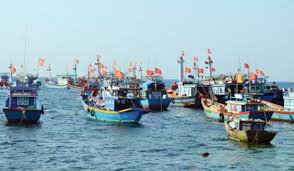tau_dansu: (76, 79, 148, 126), (204, 63, 279, 105), (218, 109, 283, 146), (2, 80, 50, 129), (165, 66, 211, 113), (135, 71, 174, 117)
